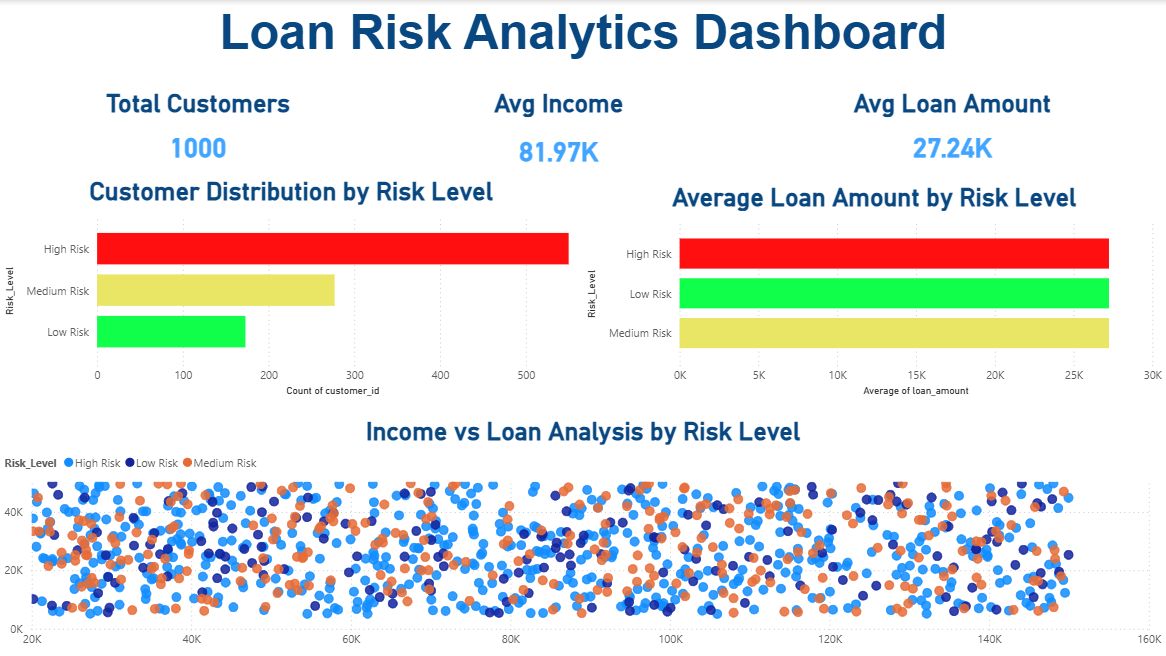

What the dashboard file says about the page in this screenshot:
{"tool":"powerbi","page":{"name":"Page 1","canvas":[1280,720],"ordinal":0},"visuals":[{"type":"card","title":"Total Customers","fields":{"Values":["CountNonNull(loan_project customers.customer_id)"]},"box":[0,97.4,435,96.1],"z":0},{"type":"card","title":"Avg Income","fields":{"Values":["Avg(loan_project loanapproval.annual_income)"]},"box":[415.8,97.4,395.2,102.9],"z":1},{"type":"card","title":"Avg Loan Amount","fields":{"Values":["Avg(loan_project loans.loan_amount)"]},"box":[811,97.4,469.3,96.1],"z":2},{"type":"clusteredBarChart","title":"Customer Distribution by Risk Level","fields":{"Category":["loan_project financials.Risk_Level"],"Y":["CountNonNull(loan_project customers.customer_id)"]},"box":[0,193.5,639.5,247],"z":3},{"type":"scatterChart","title":"Income vs Loan Analysis by Risk Level","fields":{"X":["Sum(loan_project financials.annual_income)"],"Y":["Sum(loan_project loans.loan_amount)"],"Series":["loan_project financials.Risk_Level"],"Category":["loan_project customers.customer_id"]},"box":[0,456.9,1280.3,263.5],"z":4},{"type":"clusteredBarChart","title":"Average Loan Amount by Risk Level","fields":{"Y":["Avg(loan_project loanapproval.loan_amount)"],"Category":["loan_project financials.Risk_Level"]},"box":[639.5,200.3,640.8,240.1],"z":5},{"type":"textbox","box":[0,0,1280.3,87.8],"z":6}]}

Visuals, with their boxes in screenshot pixels (x1, y1, x2, y2), scaled from the page's 1280x720 canvas onto the 1166x656 screenshot:
"Total Customers" card: select_region(0, 89, 396, 176)
"Avg Income" card: select_region(379, 89, 739, 182)
"Avg Loan Amount" card: select_region(739, 89, 1165, 176)
"Customer Distribution by Risk Level" clusteredBarChart: select_region(0, 176, 583, 401)
"Income vs Loan Analysis by Risk Level" scatterChart: select_region(0, 416, 1165, 655)
"Average Loan Amount by Risk Level" clusteredBarChart: select_region(583, 182, 1165, 401)
textbox: select_region(0, 0, 1165, 80)
